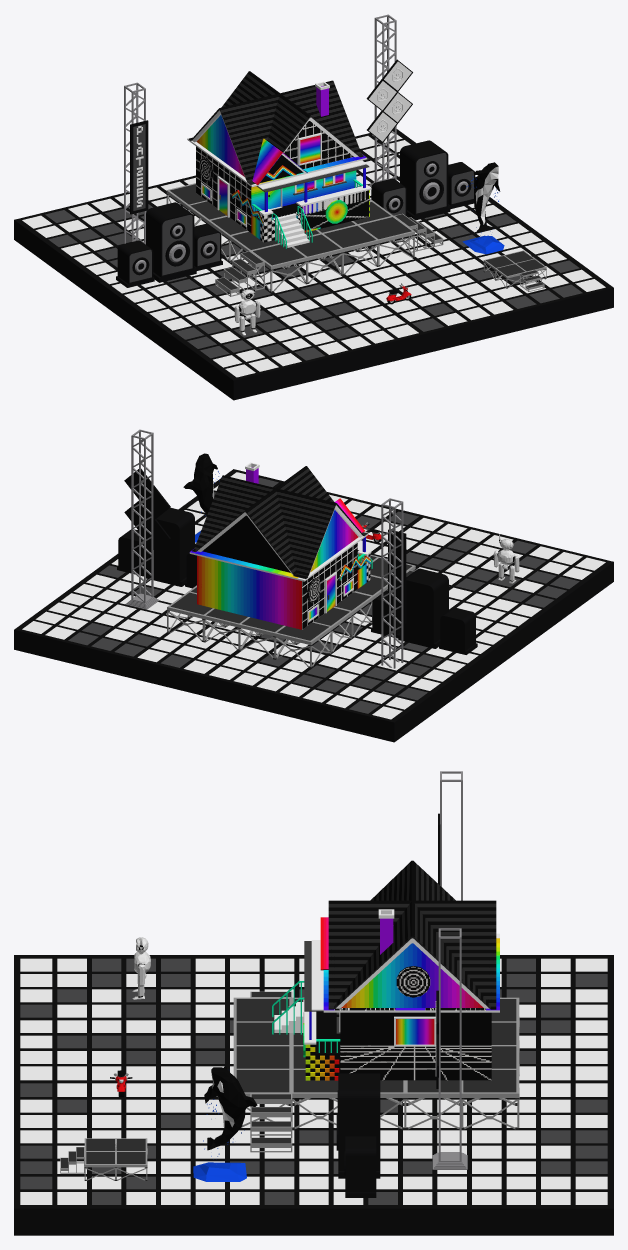
3 renders of one model, top to bottom at view 1: azimuth 30°, elevation 25°; view 2: azimuth 150°, elevation 25°; view 3: azimuth 270°, elevation 25°, orthographic. The views are drawn at different scales.
Parts seen in each view (by area): view 1: Cube.008, Cube.1320, ANIMAL_ORCA, OBJRANDOM_PLATZEEBOT; view 2: Cube.008, Cube.1320, ANIMAL_ORCA, OBJRANDOM_PLATZEEBOT; view 3: Cube.008, Cube.1320, ANIMAL_ORCA, OBJRANDOM_PLATZEEBOT.
Boxes of the visible parts, x1,y1,x2,y2 form: Cube.008: (14,14,613,400); Cube.1320: (187,71,371,248); ANIMAL_ORCA: (462,162,504,254); OBJRANDOM_PLATZEEBOT: (234,284,260,335); Cube.008: (14,429,613,742); Cube.1320: (189,462,372,629); ANIMAL_ORCA: (183,453,221,542); OBJRANDOM_PLATZEEBOT: (493,534,519,583); Cube.008: (14,771,613,1235); Cube.1320: (272,860,499,1080); ANIMAL_ORCA: (193,1066,257,1181); OBJRANDOM_PLATZEEBOT: (132,937,150,999).
Bounding box in the file's own units: 4000 × 1988 × 4000.
33 materials, 3 textured.
